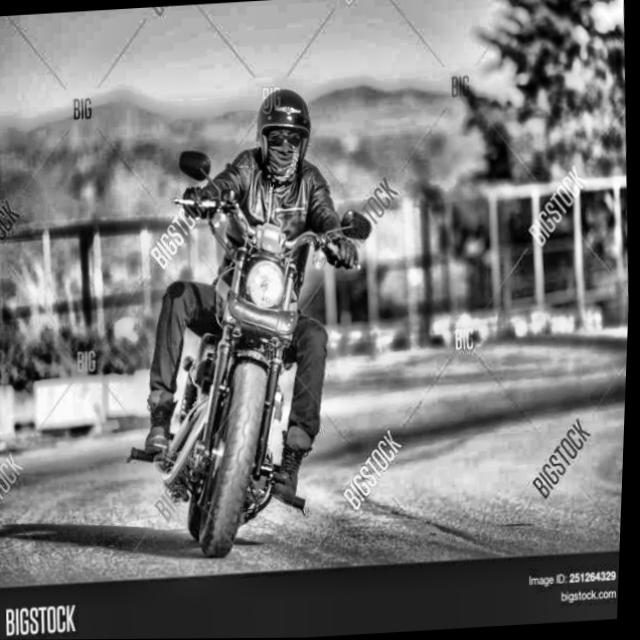motorcycle: (121, 99, 382, 565)
